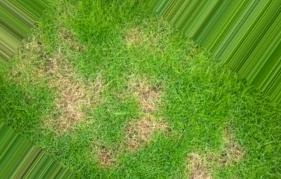patch: (122, 73, 165, 128), (61, 63, 94, 112), (133, 28, 170, 64), (196, 152, 218, 179), (95, 136, 114, 158)
